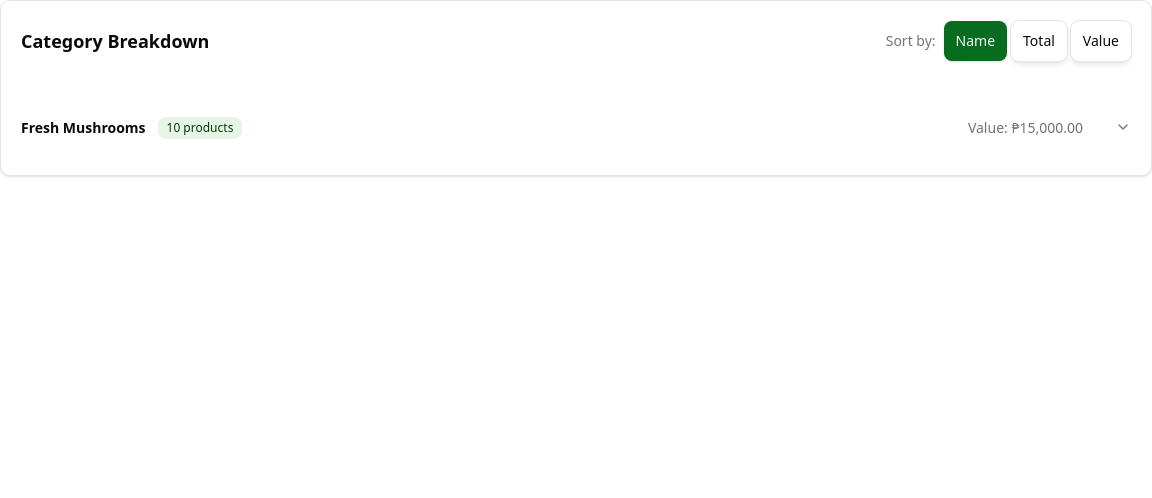
Test case: CategoryInventoryBreakdown › React Key Props › should handle products with duplicate IDs gracefully
This screenshot has width=1152, height=498.
Click the heading "Fresh Mushrooms".
click(83, 128)  # box [21, 118, 146, 138]
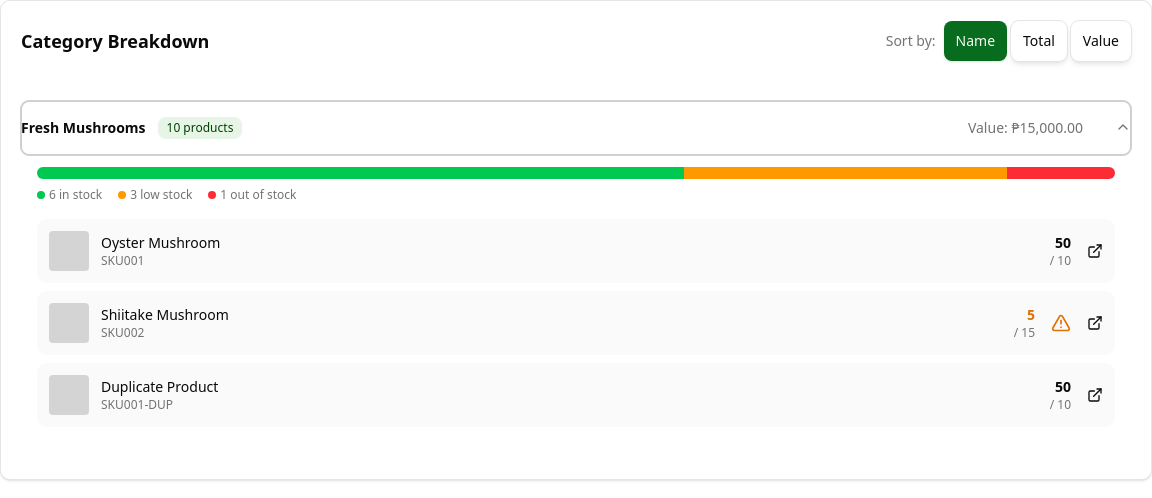
expect the text "Oyster Mushroom" is shown: met, box [101, 233, 220, 253]
expect the text "Duplicate Product" is shown: met, box [101, 377, 218, 397]
